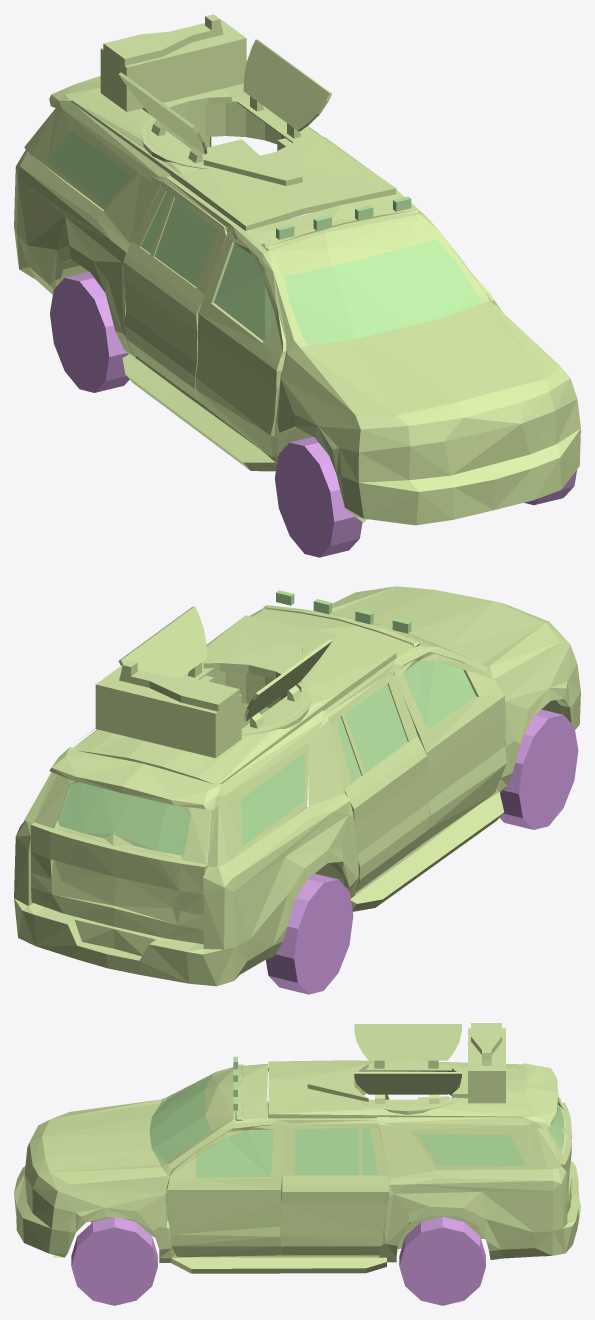
The model's file is land-wheeled-patriot-kodiak--whl-02-suv-ringturret.glb.
3 renders of one model, top to bottom at view 1: azimuth 30°, elevation 25°; view 2: azimuth 150°, elevation 25°; view 3: azimuth 270°, elevation 25°, orthographic. The views are drawn at different scales.
Parts seen in each view (by area): view 1: CC_WHL_02_Turret_Body, CC_WHL_02_Turret_Housing, CC_WHL_02_Wheel_R_1, CC_WHL_02_Wheel_R_3; view 2: CC_WHL_02_Turret_Body, CC_WHL_02_Turret_Housing, CC_WHL_02_Wheel_R_3, CC_WHL_02_Wheel_R_1; view 3: CC_WHL_02_Turret_Body, CC_WHL_02_Turret_Housing, CC_WHL_02_Wheel_R_2, CC_WHL_02_Wheel_R_0.
Part boxes in pixels (x1,y1,x2,y2): CC_WHL_02_Turret_Body: (14, 76, 580, 525); CC_WHL_02_Turret_Housing: (100, 14, 331, 185); CC_WHL_02_Wheel_R_1: (274, 436, 362, 557); CC_WHL_02_Wheel_R_3: (50, 272, 129, 392); CC_WHL_02_Turret_Body: (14, 586, 580, 986); CC_WHL_02_Turret_Housing: (95, 606, 331, 758); CC_WHL_02_Wheel_R_3: (266, 873, 353, 994); CC_WHL_02_Wheel_R_1: (499, 709, 578, 829); CC_WHL_02_Turret_Body: (14, 1056, 580, 1273); CC_WHL_02_Turret_Housing: (307, 1023, 505, 1114); CC_WHL_02_Wheel_R_2: (399, 1217, 485, 1305); CC_WHL_02_Wheel_R_0: (71, 1217, 157, 1305).
Size of the model in its own units: 2.5 by 2.83 by 6.45.
